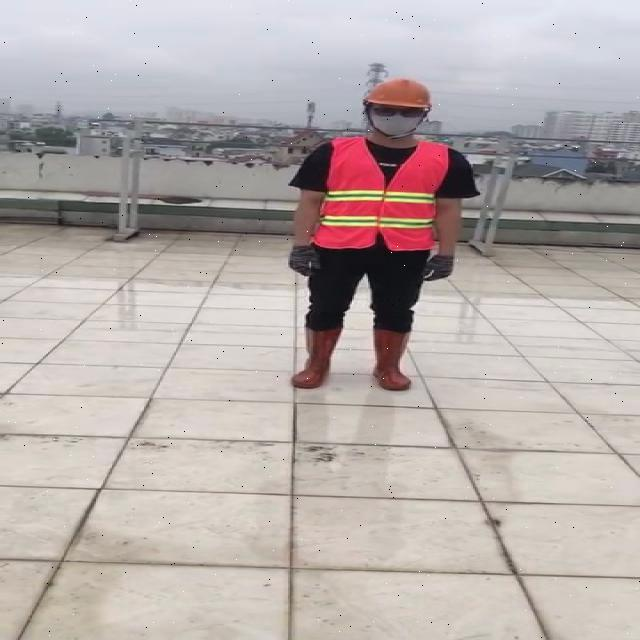Hard_hat: (356, 75, 438, 118)
Vest: (318, 137, 449, 257)
